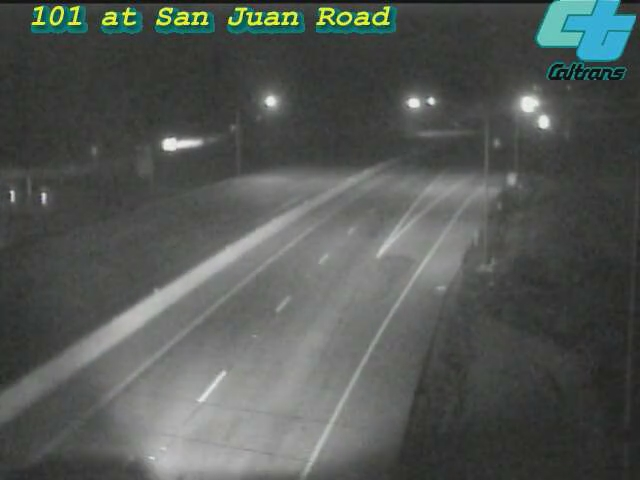vehicle: (521, 97, 571, 147), (504, 79, 554, 129)
